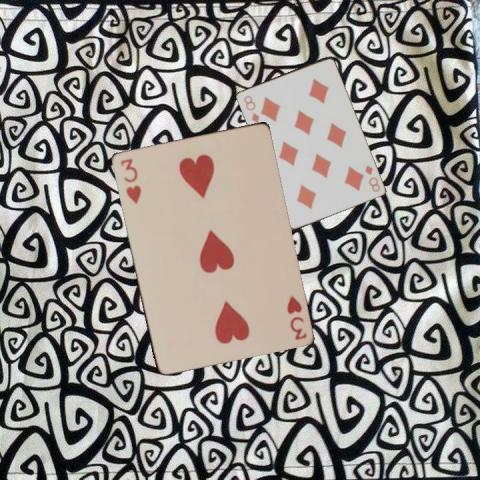3h: (117, 155, 142, 205), (283, 293, 308, 341)
8d: (361, 162, 382, 193), (240, 92, 260, 124)
